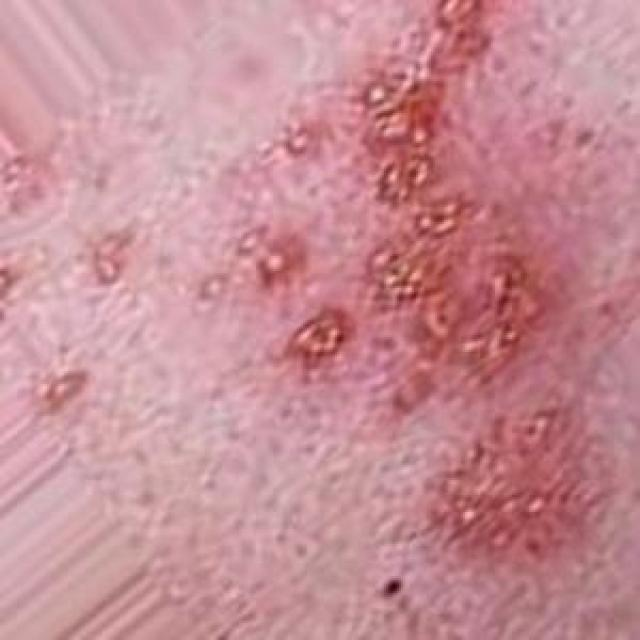Shingles: (293, 0, 526, 376), (434, 406, 569, 550)
